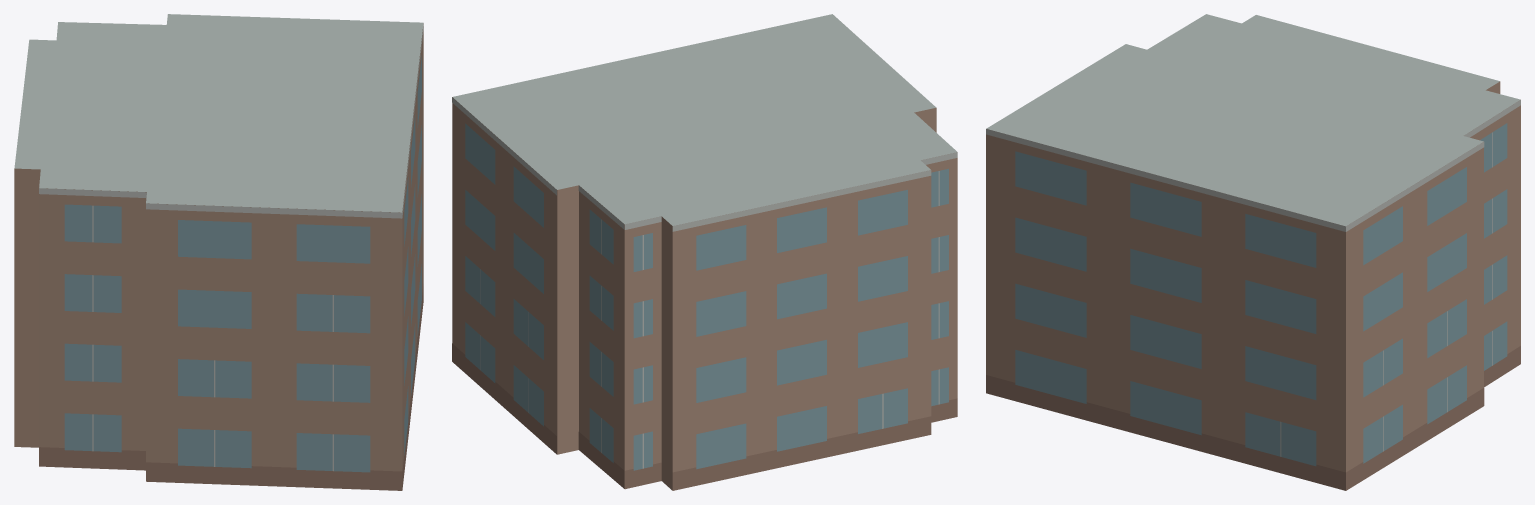
File: survey-upis-32678038.glb
3 renders of one model, left to right at view 1: azimuth 30°, elevation 25°; view 2: azimuth 150°, elevation 25°; view 3: azimuth 270°, elevation 25°, orthographic. The views are drawn at different scales.
Parts seen in each view (by area): view 1: survey-upis-32678038.tmp; view 2: survey-upis-32678038.tmp; view 3: survey-upis-32678038.tmp.
Part boxes in pixels (x1,y1,x2,y2): survey-upis-32678038.tmp: (14,14,423,490); survey-upis-32678038.tmp: (452,14,957,490); survey-upis-32678038.tmp: (986,14,1520,490).
Size of the model in its own units: 19.46 by 11.3 by 20.71.
